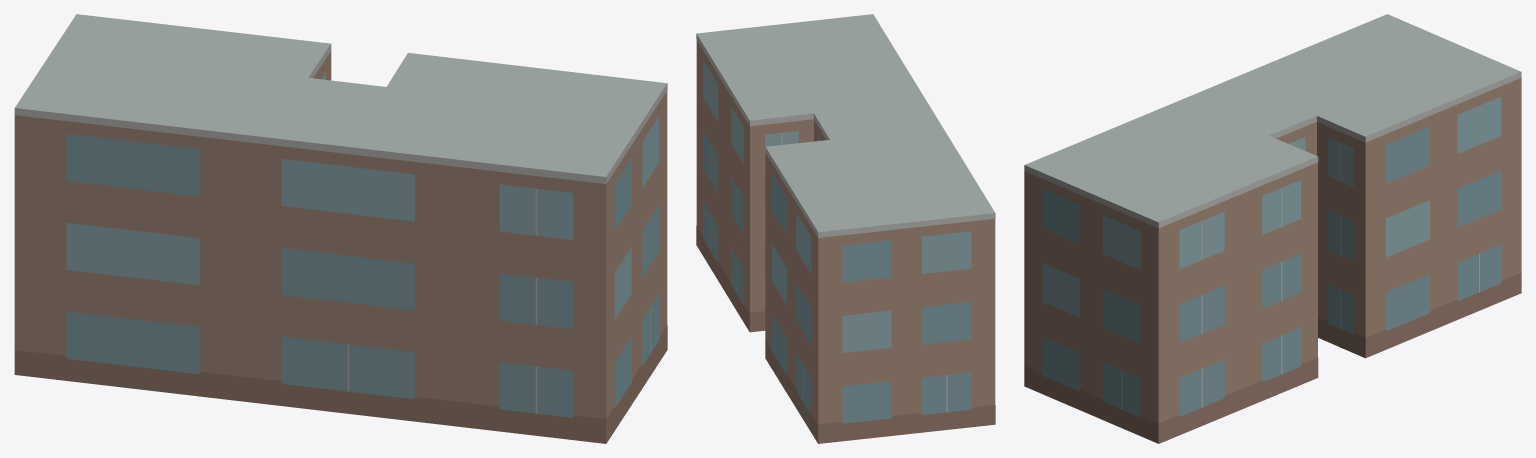
Rendered from survey-upis-32590205.glb.
The picture shows the model from 3 angles, left to right: view 1: azimuth 30°, elevation 25°; view 2: azimuth 150°, elevation 25°; view 3: azimuth 270°, elevation 25°; orthographic projection. The views are drawn at different scales.
Visible parts, largest first — view 1: survey-upis-32590205.tmp; view 2: survey-upis-32590205.tmp; view 3: survey-upis-32590205.tmp.
Part boxes in pixels (left/top/right/bottom): survey-upis-32590205.tmp: left=14, top=14, right=667, bottom=443; survey-upis-32590205.tmp: left=696, top=14, right=995, bottom=443; survey-upis-32590205.tmp: left=1024, top=14, right=1521, bottom=443.
Bounding box in the file's own units: 18.49 × 9.15 × 18.62.
